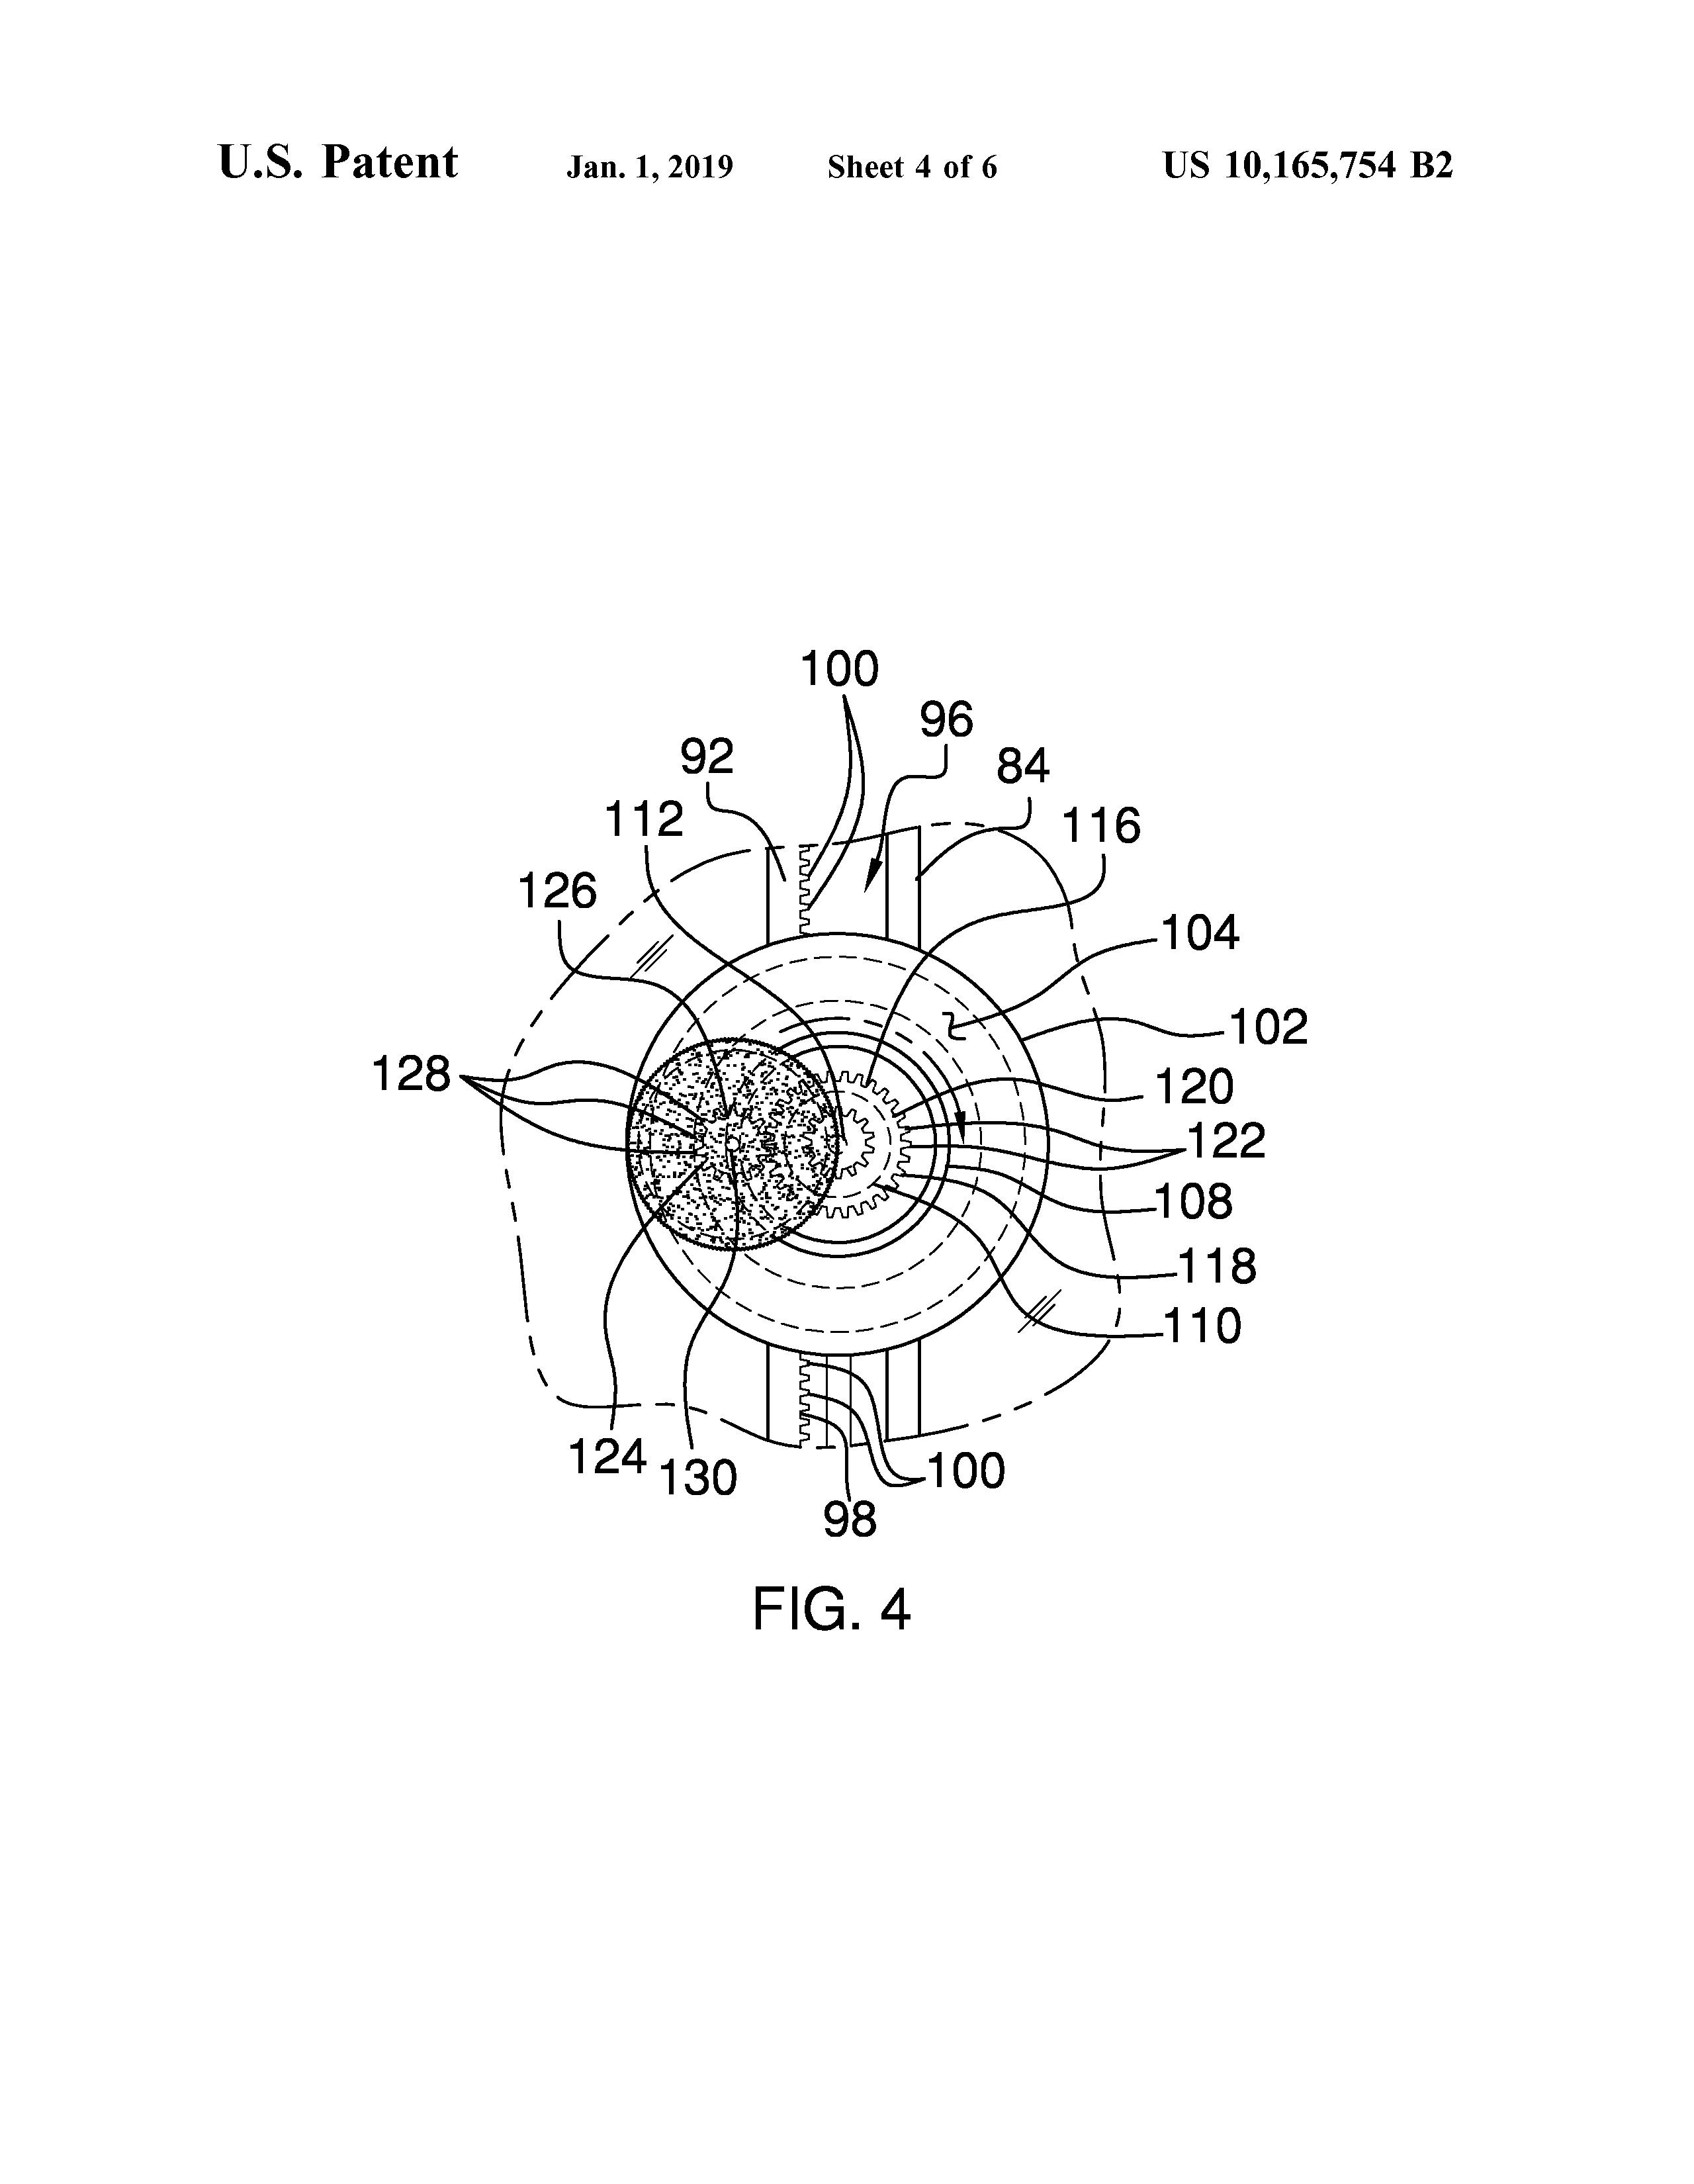patent image: (363, 615, 1345, 1715)
